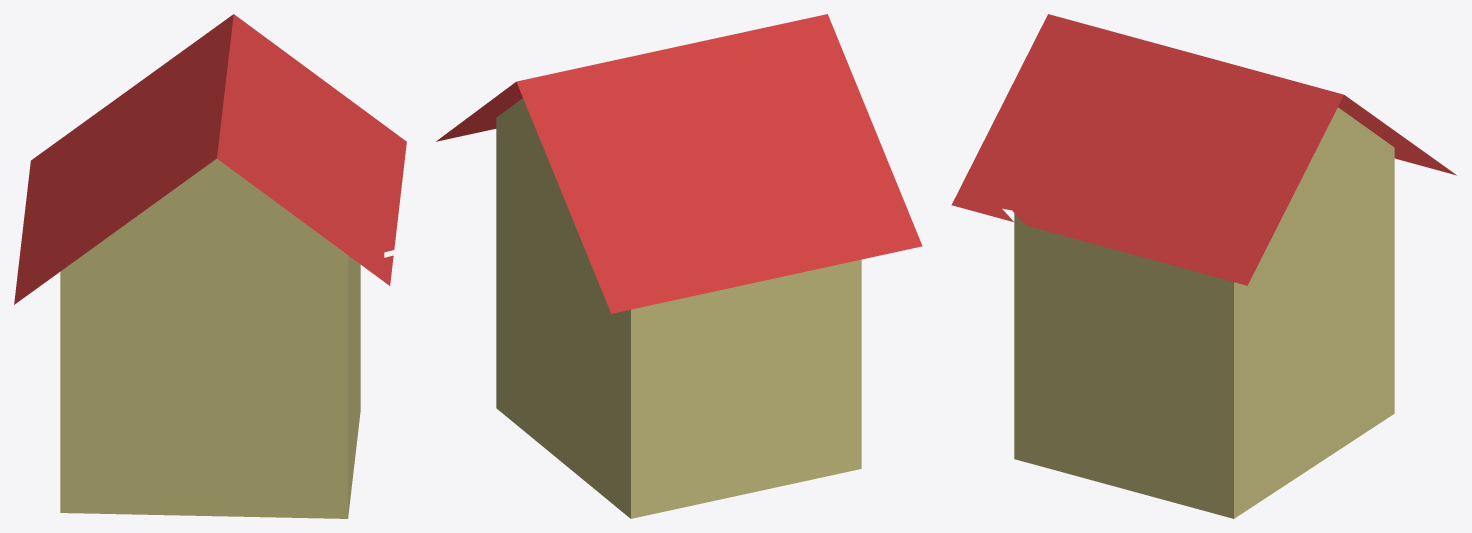
The picture shows the model from 3 angles, left to right: view 1: azimuth 30°, elevation 25°; view 2: azimuth 150°, elevation 25°; view 3: azimuth 270°, elevation 25°; orthographic projection. The views are drawn at different scales.
Size of the model in its own units: 11.34 by 11.11 by 9.39.
